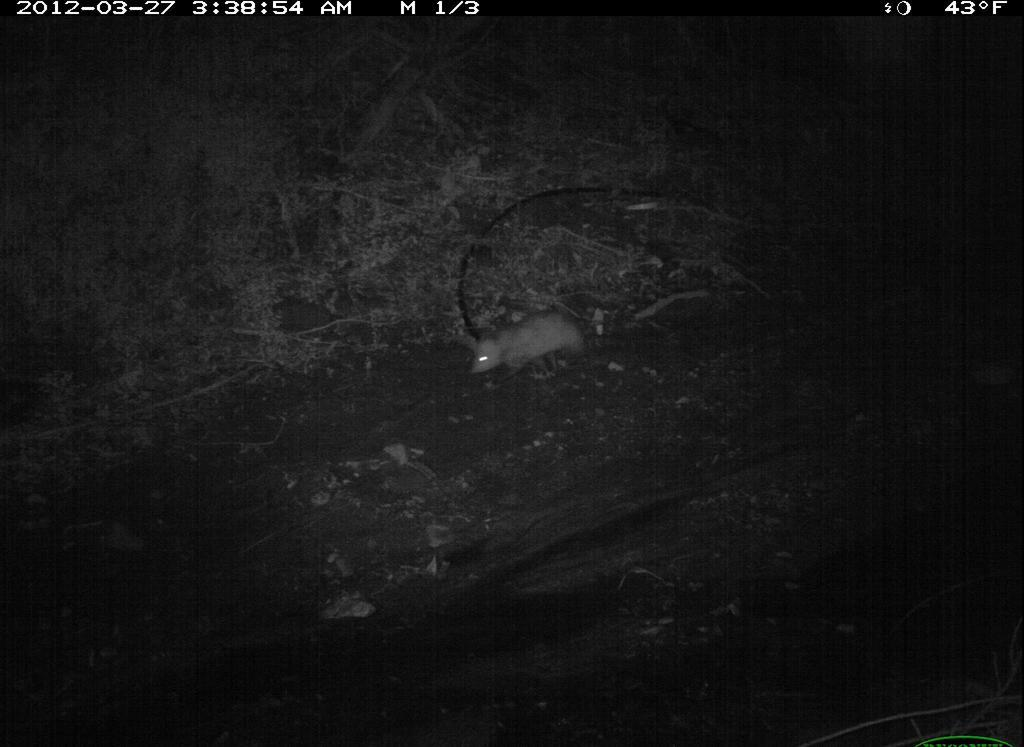opossum: (465, 313, 598, 388)
